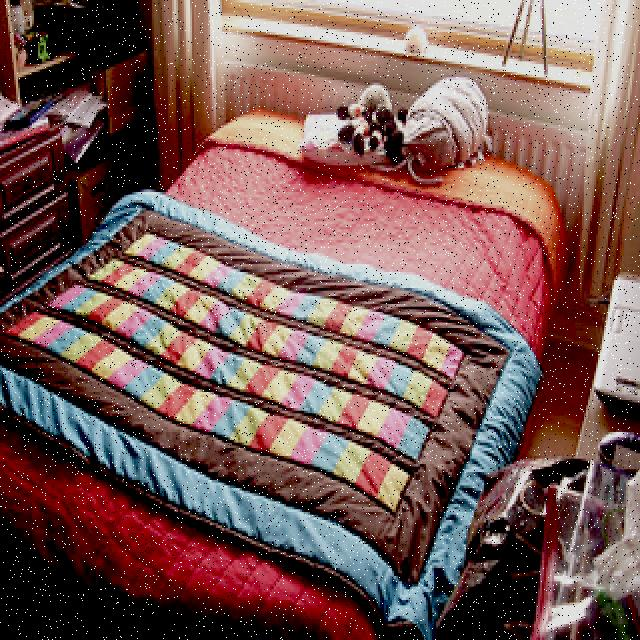bed: (0, 92, 579, 624)
